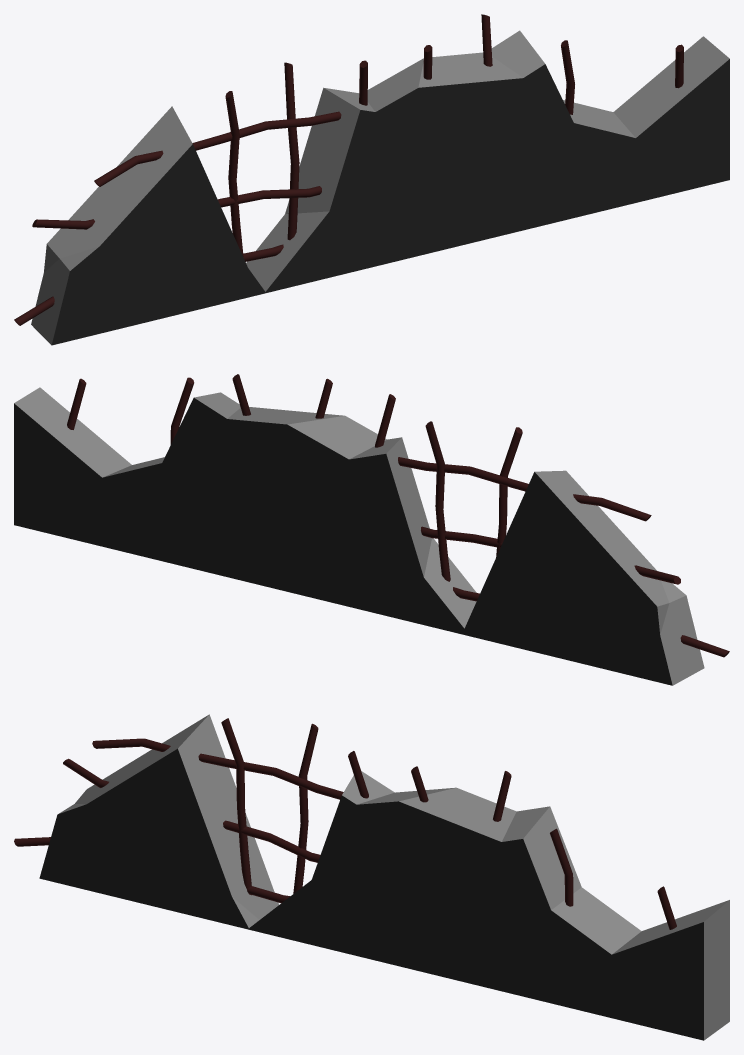
Rendered from P_MurCasséPetitTest1.FBX.
The picture shows the model from 3 angles, top to bottom: view 1: azimuth 30°, elevation 25°; view 2: azimuth 150°, elevation 25°; view 3: azimuth 330°, elevation 25°; orthographic projection. The views are drawn at different scales.
Visible parts, largest first — view 1: Box010_Part_027; view 2: Box010_Part_027; view 3: Box010_Part_027.
Part boxes in pixels (bbox=[...]): Box010_Part_027: bbox=[14, 14, 729, 345]; Box010_Part_027: bbox=[14, 374, 729, 685]; Box010_Part_027: bbox=[14, 714, 729, 1040].
Size of the model in its own units: 462 by 30 by 127.
